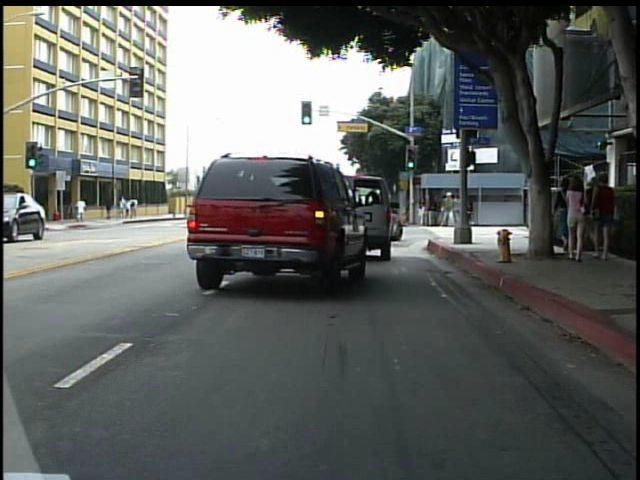person: (591, 174, 623, 266), (561, 179, 592, 270), (440, 190, 457, 231), (75, 196, 89, 226)
